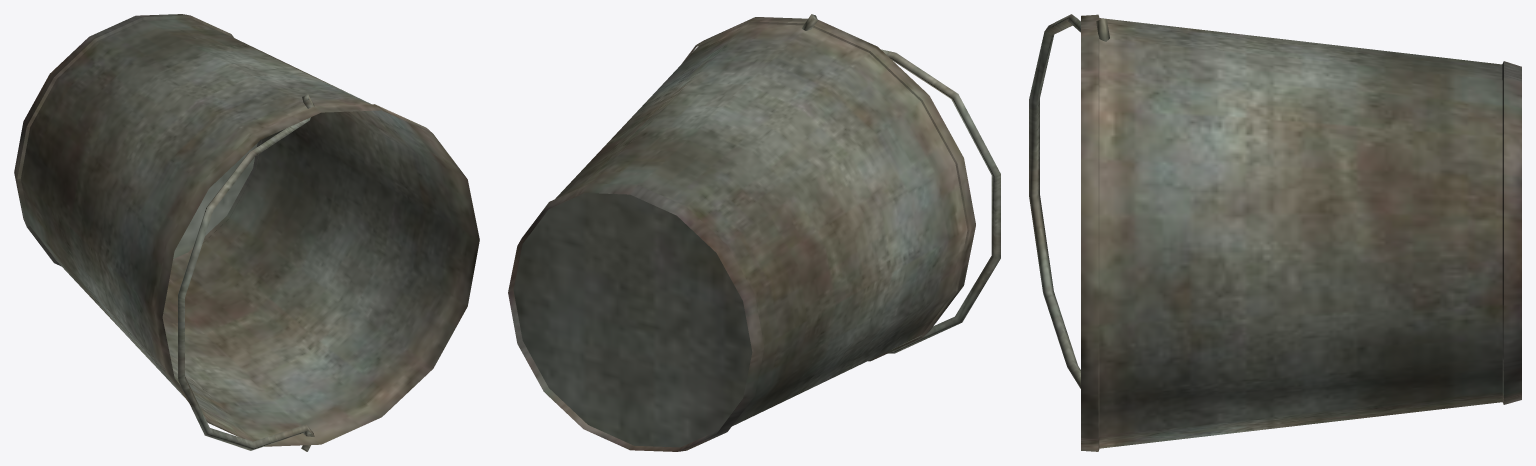
Rendered from prop_metal_pail1.glb.
The picture shows the model from 3 angles, left to right: view 1: azimuth 30°, elevation 25°; view 2: azimuth 150°, elevation 25°; view 3: azimuth 270°, elevation 25°; orthographic projection. The views are drawn at different scales.
Size of the model in its own units: 15.02 by 15.89 by 16.72.
1 material, 1 textured.
